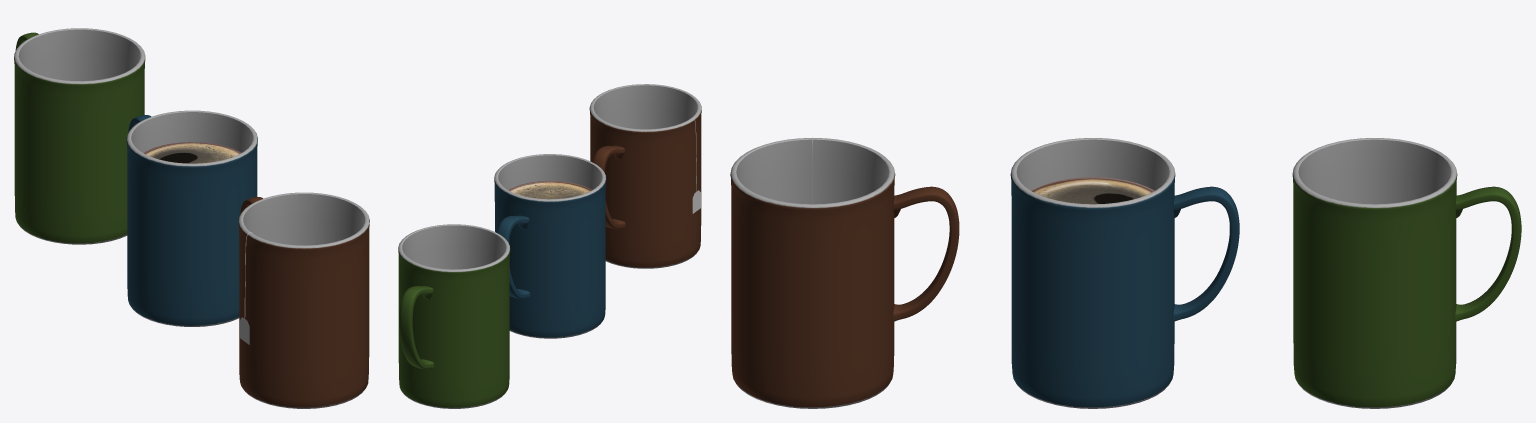
3 renders of one model, left to right at view 1: azimuth 30°, elevation 25°; view 2: azimuth 150°, elevation 25°; view 3: azimuth 270°, elevation 25°, orthographic. The views are drawn at different scales.
Parts seen in each view (by area): view 1: Cups; view 2: Cups; view 3: Cups.
Part boxes in pixels (x1,y1,x2,y2): Cups: (14,28,369,408); Cups: (398,84,701,408); Cups: (730,137,1521,408).
Bounding box in the file's own units: 0.2386 × 0.5303 × 1.12.
